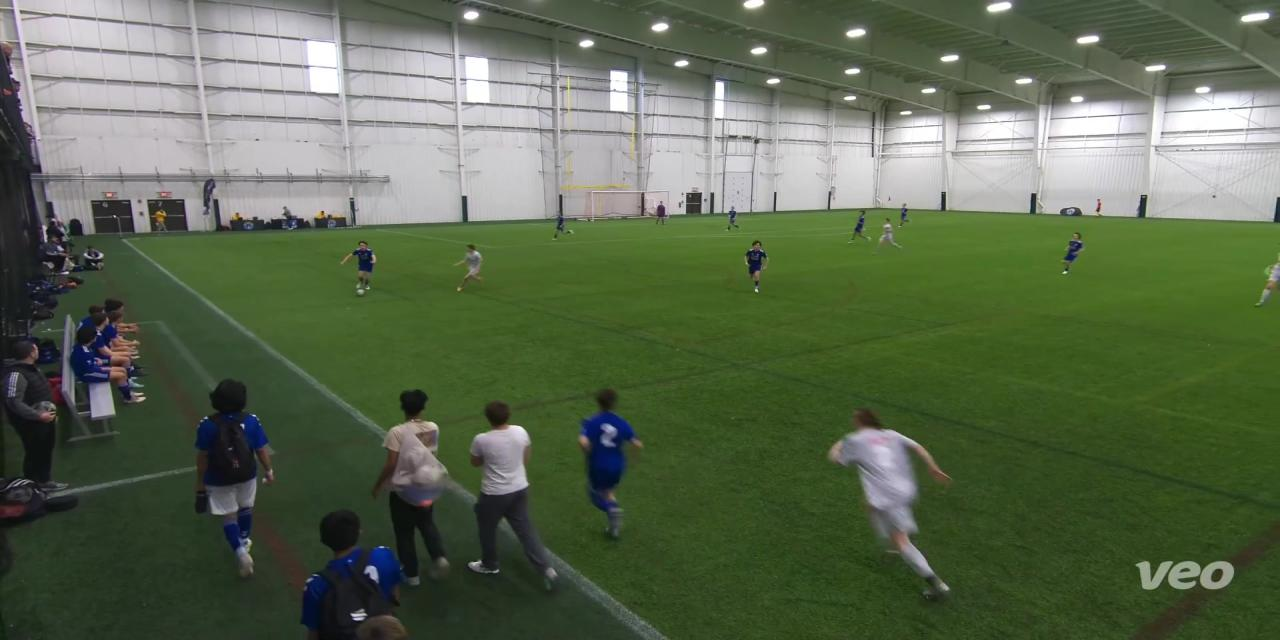goal: (578, 187, 678, 222)
sports ball: (353, 284, 371, 300)
